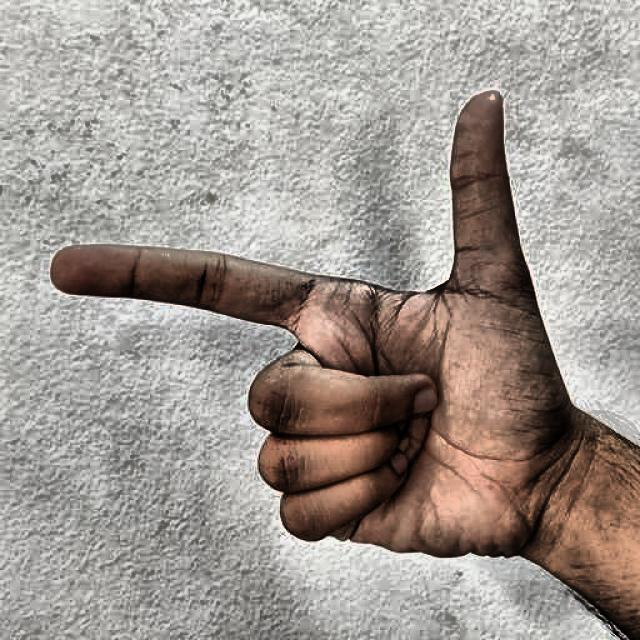Tha: (35, 62, 581, 596)
